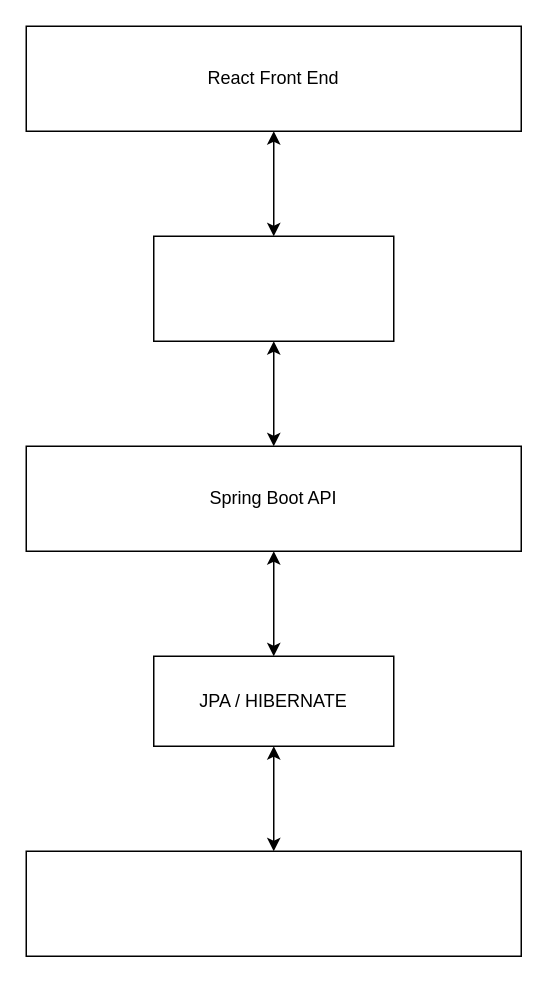
Image size: 548x983. Some labels were removed from this diagram. Here are the shapes that lost their labels. From the top down, the centre of each, then its label:
At [273,288]: "HTTP / REST".
At [273,903]: "MySQL Database".
